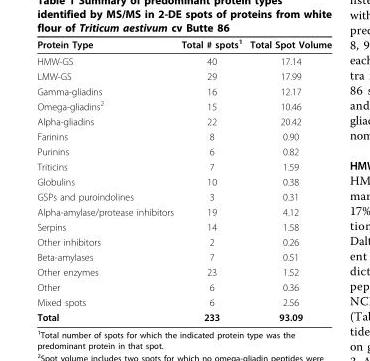table: (36, 37, 331, 322)
table column: (36, 37, 176, 322), (245, 37, 331, 322), (176, 37, 245, 322)
table column header: (36, 37, 331, 52)
table row: (36, 52, 331, 68), (36, 97, 331, 113), (36, 188, 331, 204), (36, 37, 331, 52), (36, 68, 331, 83), (36, 113, 331, 128), (36, 128, 331, 143), (36, 143, 331, 158), (36, 158, 331, 173), (36, 173, 331, 188), (36, 204, 331, 219), (36, 219, 331, 234), (36, 234, 331, 249), (36, 249, 331, 264), (36, 264, 331, 279), (36, 279, 331, 294), (36, 294, 331, 309), (36, 83, 331, 97), (36, 309, 331, 322)
